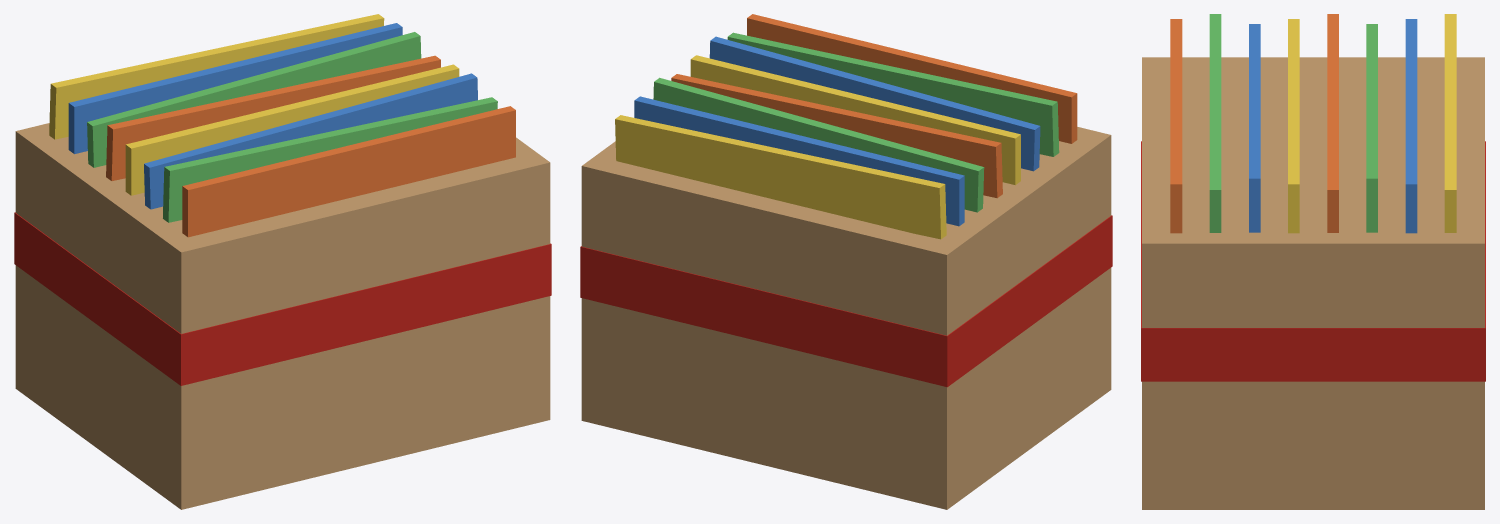
The model's file is ad_contracts.glb.
3 views of the same model, side by side, from view 1: azimuth 30°, elevation 25°; view 2: azimuth 150°, elevation 25°; view 3: azimuth 270°, elevation 25° (orthographic). The views are drawn at different scales.
Parts seen in each view (by area): view 1: box_archive_box, folders, band_band_red; view 2: box_archive_box, folders, band_band_red; view 3: box_archive_box, folders, band_band_red.
Boxes of the visible parts, left/top/right/bottom form: box_archive_box: left=15, top=123, right=550, bottom=509; folders: left=49, top=14, right=515, bottom=237; band_band_red: left=14, top=212, right=551, bottom=385; box_archive_box: left=581, top=127, right=1111, bottom=509; folders: left=615, top=14, right=1077, bottom=239; band_band_red: left=580, top=215, right=1112, bottom=387; box_archive_box: left=1142, top=57, right=1484, bottom=509; folders: left=1170, top=14, right=1456, bottom=233; band_band_red: left=1141, top=141, right=1485, bottom=381.
Bounding box in the file's own units: 0.452 × 0.361 × 0.352.
